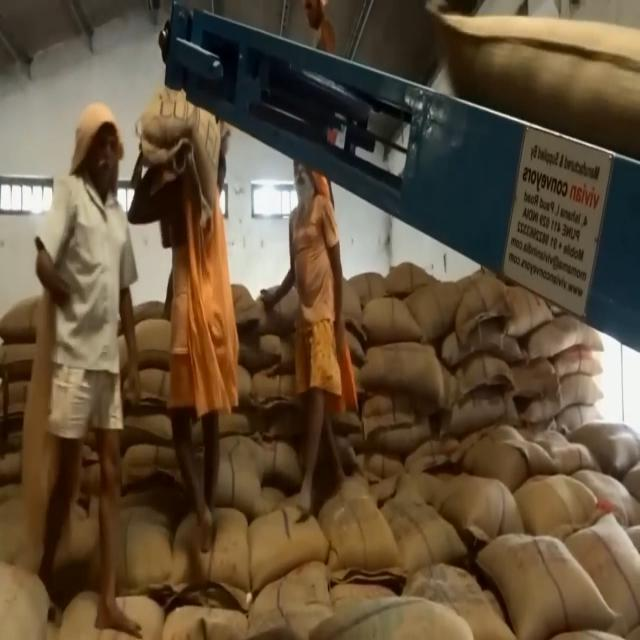gunny_bag: (420, 8, 640, 148)
